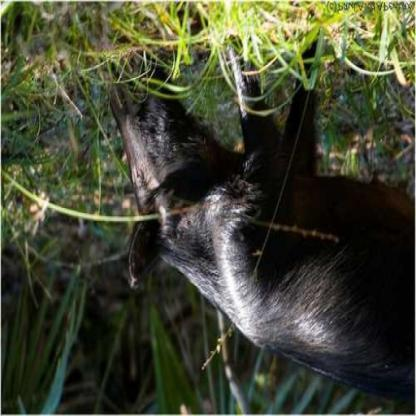boar: (87, 48, 415, 407)
